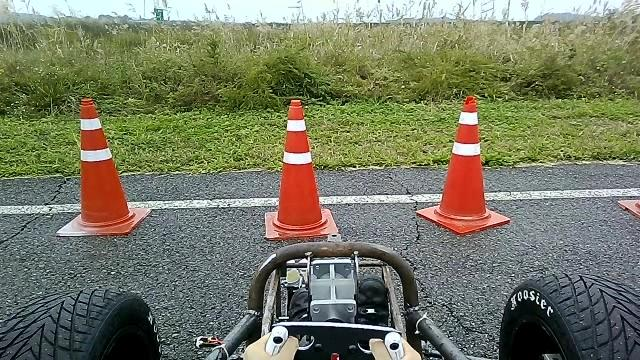red cone: (55, 96, 151, 236), (415, 95, 510, 235), (263, 98, 339, 240)
